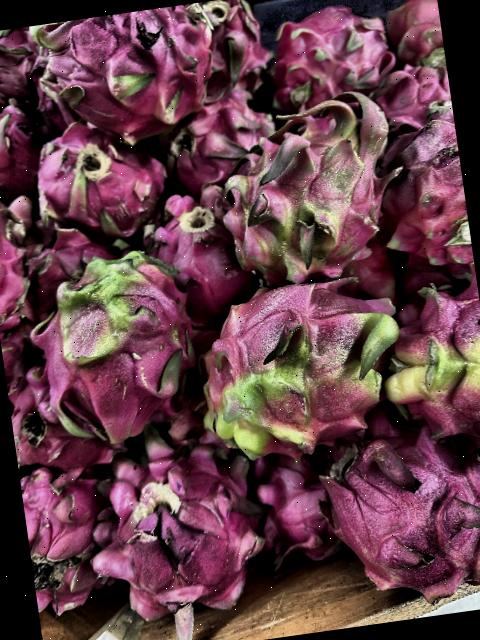buah-naga-belum-matang: (182, 260, 408, 460), (202, 91, 408, 286), (23, 252, 216, 434), (377, 272, 480, 457)
buah-naga-matang: (84, 437, 272, 630), (316, 416, 480, 607), (22, 2, 216, 138), (21, 452, 130, 634), (365, 102, 473, 266), (27, 124, 177, 242), (139, 178, 256, 312), (252, 444, 358, 590), (265, 0, 394, 105), (6, 362, 115, 480), (147, 93, 280, 187), (189, 0, 270, 100), (359, 44, 452, 120), (0, 94, 50, 203), (0, 26, 44, 116)
